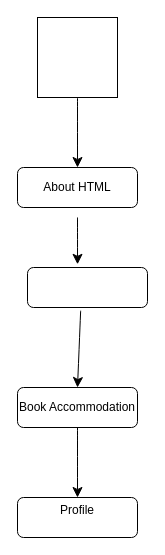
Image size: 165x555. Some labels were removed from this diagram. The shapes that lost their labels are listed below. From the top down, each one's centre as x and y in pixels, then its label:
point (77, 57): Home
point (87, 287): Listings HTML
